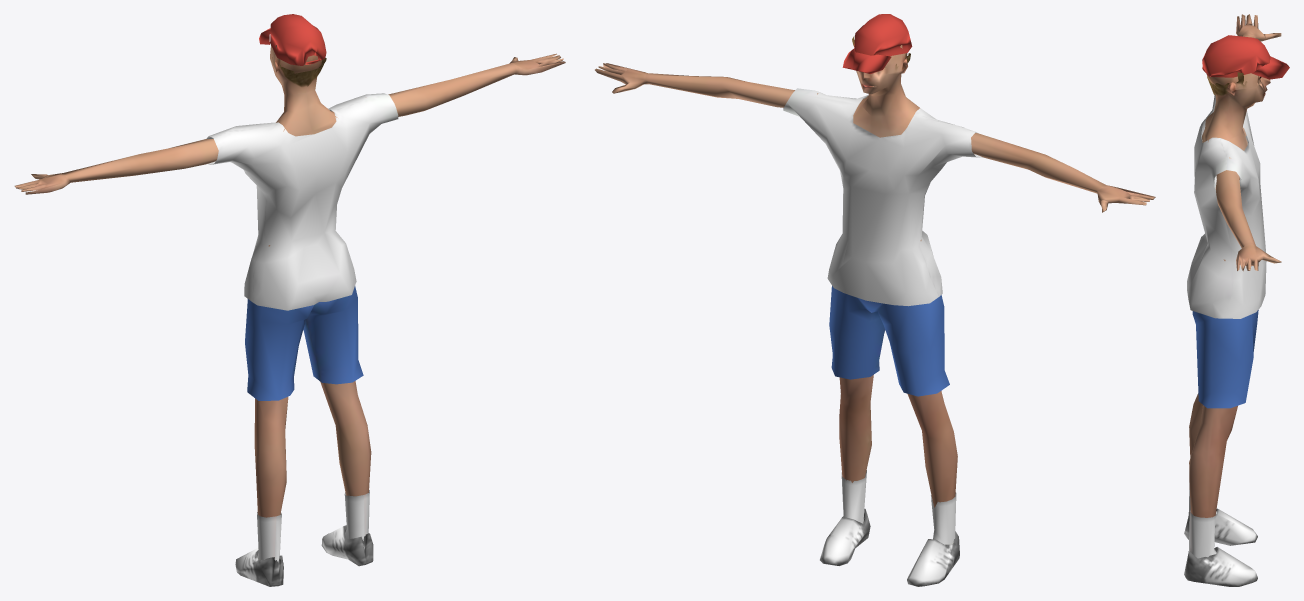
3 renders of one model, left to right at view 1: azimuth 30°, elevation 25°; view 2: azimuth 150°, elevation 25°; view 3: azimuth 270°, elevation 25°, orthographic. The views are drawn at different scales.
Parts seen in each view (by area): view 1: mensch; view 2: mensch; view 3: mensch.
Boxes of the visible parts, x1,y1,x2,y2 form: mensch: (14,14,565,586); mensch: (595,14,1155,586); mensch: (1184,14,1289,586).
Size of the model in its own units: 1.82 by 1.74 by 0.3192.
1 material, 1 textured.
